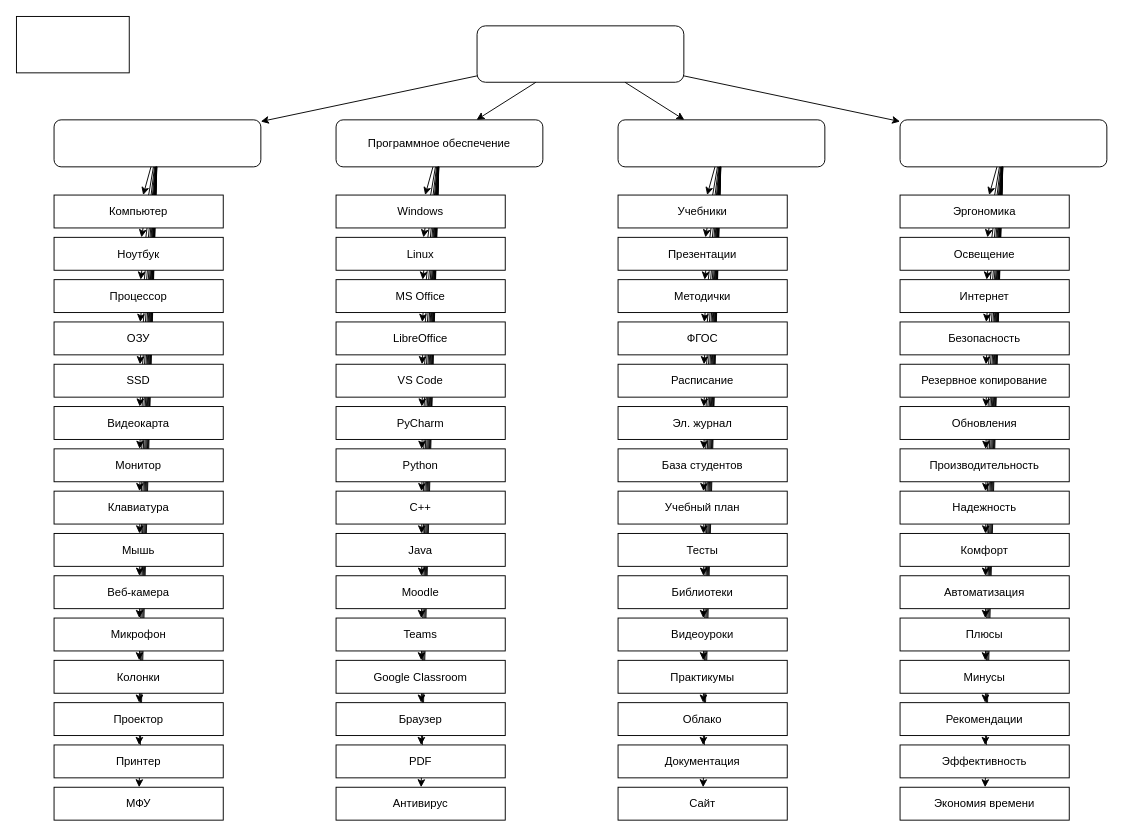
Image size: 1123x837. Some labels were removed from this diagram. Each missing label, with the centre of its shape:
Аппаратное обеспечение: the point at 157,143
АРМ преподавателя информатики: the point at 580,53
Информационное обеспечение: the point at 721,143
Оценка рабочего места: the point at 1003,143
Сделал студент 1 курса ПОО Сибель Максим: the point at 72,44
